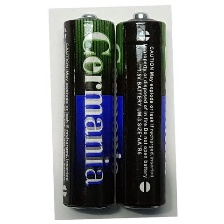battery: (111, 10, 169, 212), (59, 11, 117, 213)
